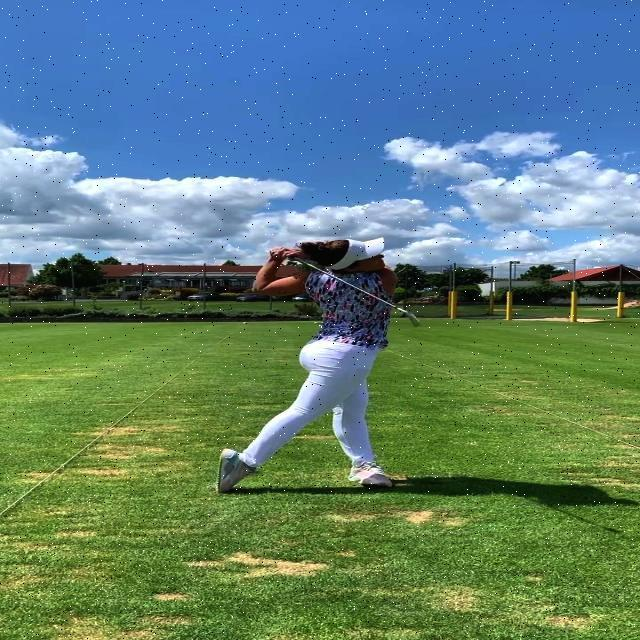ClubHead: (402, 312, 420, 327)
